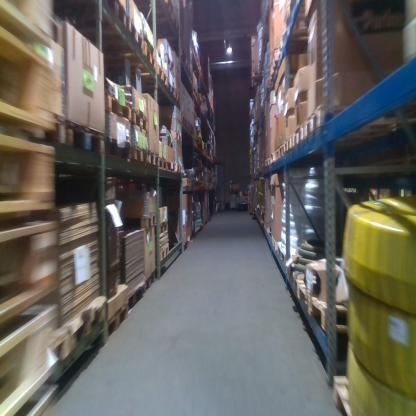pallet: (0, 22, 63, 128), (0, 217, 56, 325), (2, 309, 56, 412), (2, 130, 56, 217), (296, 274, 348, 335), (69, 292, 106, 354), (66, 119, 105, 154), (107, 298, 129, 340), (104, 91, 132, 122), (304, 105, 326, 143), (105, 135, 132, 161), (104, 3, 128, 32), (128, 20, 145, 58), (125, 209, 157, 229), (276, 239, 293, 263), (155, 55, 167, 89), (143, 40, 155, 72), (133, 108, 148, 131), (132, 146, 147, 167), (145, 268, 157, 294), (293, 123, 303, 152), (159, 240, 170, 263), (147, 150, 159, 167), (283, 136, 293, 156), (158, 219, 168, 237), (169, 129, 182, 142), (167, 77, 175, 98), (185, 54, 191, 77), (159, 157, 168, 171), (271, 234, 278, 251), (279, 142, 285, 161), (182, 177, 192, 188), (263, 221, 272, 233), (181, 112, 187, 127), (174, 162, 182, 173), (274, 147, 279, 164), (174, 91, 180, 104), (192, 86, 198, 99), (270, 152, 275, 165), (188, 119, 192, 132), (265, 158, 270, 167)
